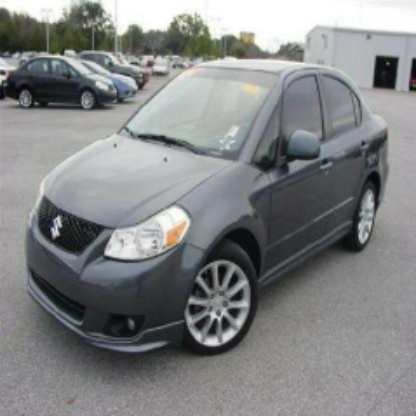Vehicle: (25, 60, 390, 356)
